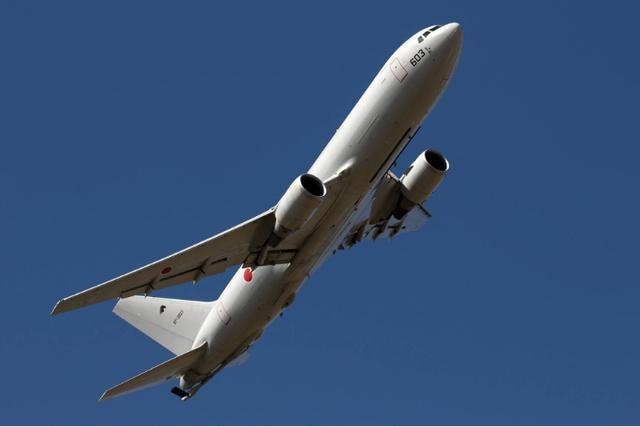airplane: (47, 22, 478, 409)
